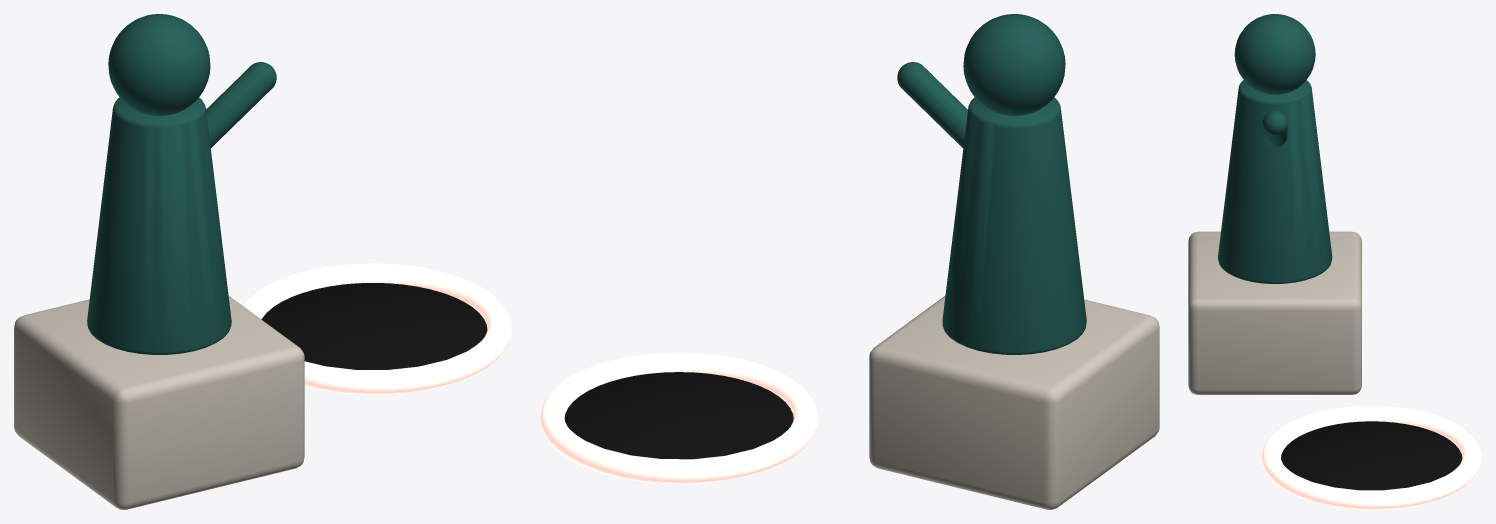
Rendered from coterie.glb.
The picture shows the model from 3 angles, left to right: view 1: azimuth 30°, elevation 25°; view 2: azimuth 150°, elevation 25°; view 3: azimuth 270°, elevation 25°; orthographic projection. The views are drawn at different scales.
Visible parts, largest first — view 1: ped, coterie_fig_body, hole, coterie_rim, coterie_fig_head, coterie_fig_arm; view 2: ped, coterie_fig_body, hole, coterie_rim, coterie_fig_head, coterie_fig_arm; view 3: ped, coterie_fig_body, hole, coterie_rim, coterie_fig_head, coterie_fig_arm.
Boxes of the visible parts, x1,y1,x2,y2 form: ped: (14, 296, 304, 509); coterie_fig_body: (87, 97, 231, 354); hole: (261, 283, 487, 369); coterie_rim: (243, 263, 511, 394); coterie_fig_head: (108, 14, 210, 115); coterie_fig_arm: (206, 62, 276, 148); ped: (869, 296, 1159, 509); coterie_fig_body: (942, 97, 1086, 354); hole: (564, 372, 793, 459); coterie_rim: (540, 352, 817, 483); coterie_fig_head: (963, 14, 1065, 115); coterie_fig_arm: (897, 62, 967, 148); ped: (1188, 231, 1361, 394); coterie_fig_body: (1218, 80, 1332, 283); hole: (1281, 421, 1462, 490); coterie_rim: (1261, 406, 1481, 509); coterie_fig_head: (1234, 14, 1315, 94); coterie_fig_arm: (1262, 111, 1287, 147).
Bounding box in the file's own units: 2.32 × 1.97 × 1.52.
